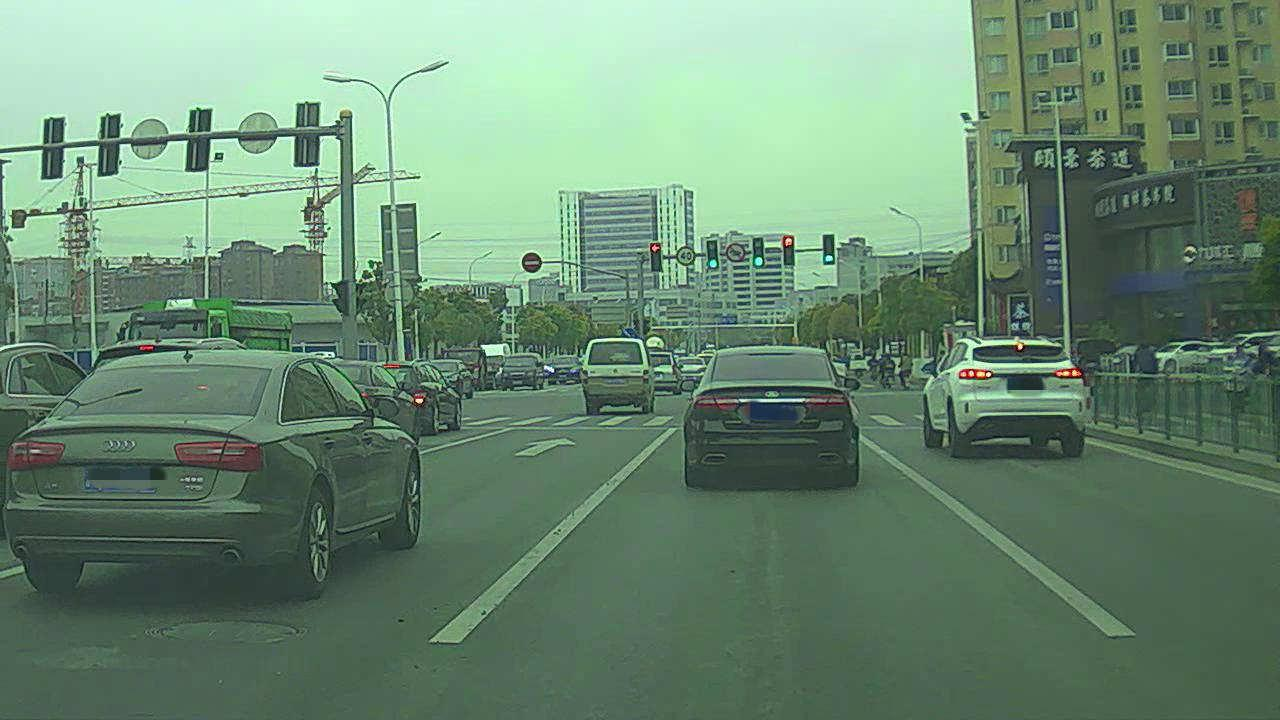traffic_light: (648, 241, 663, 272), (783, 235, 795, 267), (822, 232, 833, 265), (706, 242, 719, 269), (753, 236, 762, 269)
